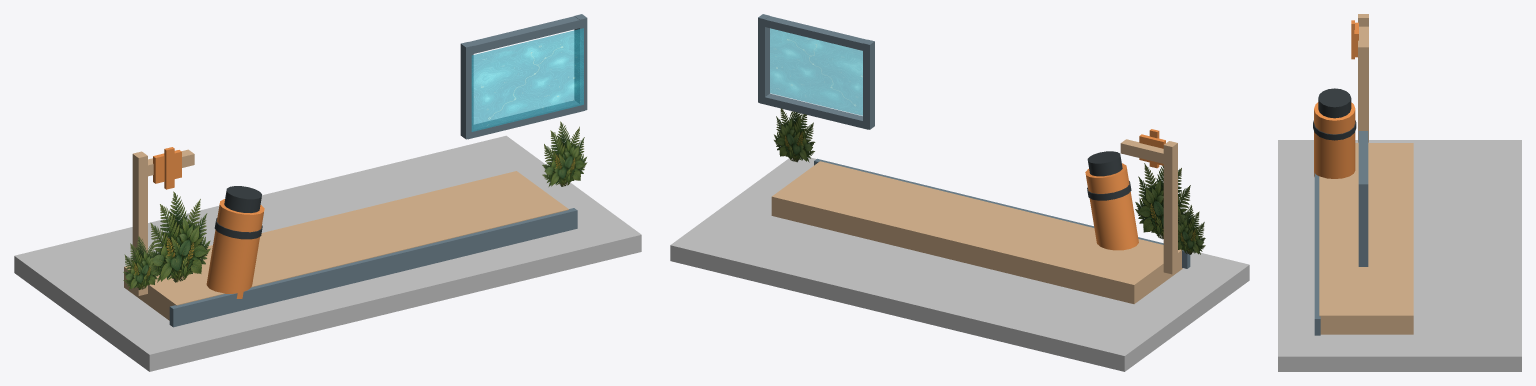
The model's file is showcase.gltf.
3 renders of one model, left to right at view 1: azimuth 30°, elevation 25°; view 2: azimuth 150°, elevation 25°; view 3: azimuth 270°, elevation 25°, orthographic. The views are drawn at different scales.
Parts seen in each view (by area): view 1: TrailheadStage, TrailMap, Bottle, LeftFoliage, RightFoliage, LeftFoliageSmall; view 2: TrailheadStage, TrailMap, Bottle, LeftFoliage, RightFoliage, LeftFoliageSmall; view 3: TrailheadStage, Bottle.
Boxes of the visible parts, bbox=[...] form: TrailheadStage: bbox=[14, 14, 641, 371]; TrailMap: bbox=[471, 28, 583, 131]; Bottle: bbox=[206, 186, 264, 298]; LeftFoliage: bbox=[148, 191, 210, 282]; RightFoliage: bbox=[542, 121, 587, 186]; LeftFoliageSmall: bbox=[123, 236, 157, 289]; TrailheadStage: bbox=[670, 14, 1249, 371]; TrailMap: bbox=[770, 28, 862, 115]; Bottle: bbox=[1085, 151, 1138, 250]; LeftFoliage: bbox=[1135, 163, 1192, 239]; RightFoliage: bbox=[774, 108, 815, 162]; LeftFoliageSmall: bbox=[1178, 205, 1205, 254]; TrailheadStage: bbox=[1278, 14, 1521, 371]; Bottle: bbox=[1313, 88, 1356, 178].
Bounding box in the file's own units: 8.4 × 3.32 × 4.
